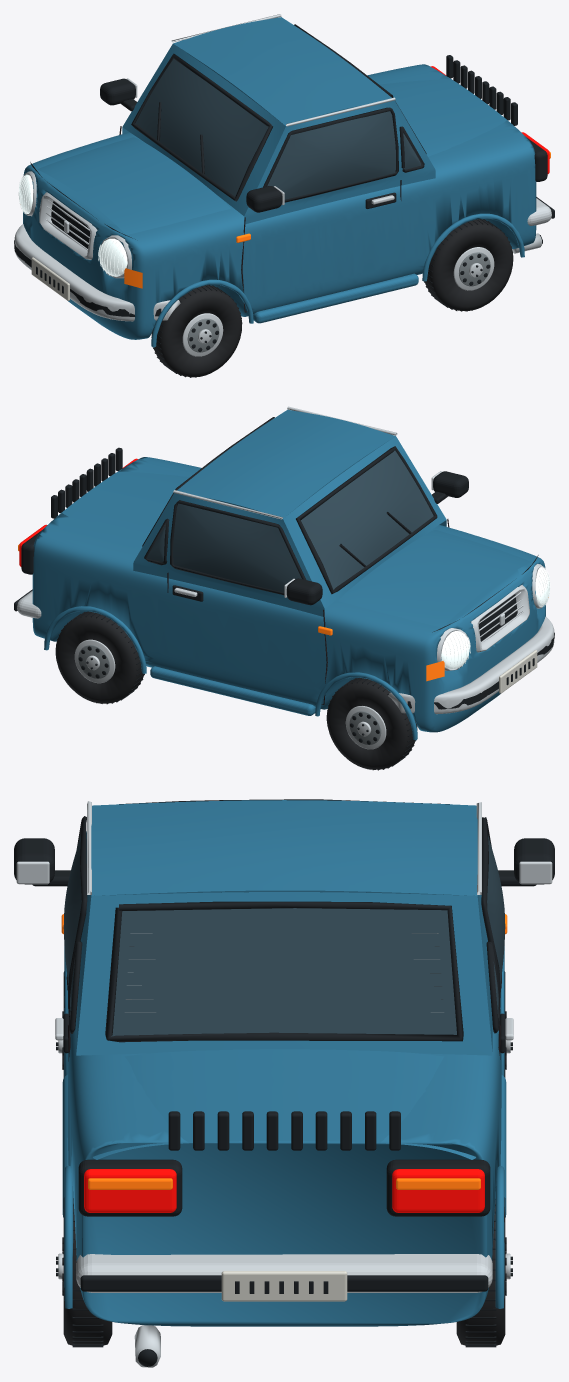
File: smz.glb
3 views of the same model, one above another, from view 1: azimuth 30°, elevation 25°; view 2: azimuth 150°, elevation 25°; view 3: azimuth 270°, elevation 25° (orthographic). The views are drawn at different scales.
Parts seen in each view (by area): view 1: Body_Paint_smz, Body_Curved smoked glass.009, Body_Black trim.009, Wheel_RR_Tyre.009, Wheel_FR_Tyre.009, Body_Machined aluminium.009, StockBumpers_Machined aluminium.009, StockSkirts_Paint_smz, StockFenders_Paint_smz, Body_Prismatic headlight glass.009, Wheel_RR_Machined aluminium.009, Wheel_FR_Machined aluminium.009 (+6 smaller); view 2: Body_Paint_smz, Body_Curved smoked glass.009, Body_Black trim.009, Wheel_RL_Tyre.009, Wheel_FL_Tyre.009, StockBumpers_Machined aluminium.009, Body_Machined aluminium.009, StockSkirts_Paint_smz, StockFenders_Paint_smz, Body_Prismatic headlight glass.009, Wheel_FL_Machined aluminium.009, Wheel_RL_Machined aluminium.009 (+6 smaller); view 3: Body_Paint_smz, Body_Curved smoked glass.009, Body_Black trim.009, StockBumpers_Machined aluminium.009, Body_Red lens.009, StockBumpers_Black trim.009, Body_Machined aluminium.009, Body_Numberplate.009, StockFenders_Paint_smz, Wheel_RR_Tyre.009, Body_Amber lens.009, Wheel_RL_Tyre.009 (+3 smaller).
Part boxes in pixels (x1,y1,x2,y2): Body_Paint_smz: [23, 17, 536, 339]; Body_Curved smoked glass.009: [135, 59, 421, 199]; Body_Black trim.009: [30, 24, 547, 293]; Wheel_RR_Tyre.009: [425, 219, 513, 311]; Wheel_FR_Tyre.009: [151, 285, 242, 377]; Body_Machined aluminium.009: [23, 14, 541, 278]; StockBumpers_Machined aluminium.009: [14, 198, 551, 321]; StockSkirts_Paint_smz: [253, 273, 418, 323]; StockFenders_Paint_smz: [151, 213, 524, 347]; Body_Prismatic headlight glass.009: [18, 174, 127, 276]; Wheel_RR_Machined aluminium.009: [453, 247, 494, 290]; Wheel_FR_Machined aluminium.009: [182, 313, 223, 356]; Body_Paint_smz: [32, 409, 545, 732]; Body_Curved smoked glass.009: [147, 450, 433, 592]; Body_Black trim.009: [21, 417, 538, 685]; Wheel_RL_Tyre.009: [55, 611, 143, 703]; Wheel_FL_Tyre.009: [326, 678, 417, 769]; StockBumpers_Machined aluminium.009: [17, 590, 554, 714]; Body_Machined aluminium.009: [173, 406, 545, 670]; StockSkirts_Paint_smz: [150, 666, 315, 715]; StockFenders_Paint_smz: [44, 606, 417, 740]; Body_Prismatic headlight glass.009: [441, 567, 550, 669]; Wheel_FL_Machined aluminium.009: [345, 706, 386, 749]; Wheel_RL_Machined aluminium.009: [74, 639, 115, 683]; Body_Paint_smz: [67, 800, 501, 1326]; Body_Curved smoked glass.009: [63, 835, 505, 1036]; Body_Black trim.009: [14, 799, 554, 1366]; StockBumpers_Machined aluminium.009: [76, 1254, 492, 1292]; Body_Red lens.009: [84, 1169, 484, 1212]; StockBumpers_Black trim.009: [80, 1275, 488, 1291]; Body_Machined aluminium.009: [16, 801, 552, 1367]; Body_Numberplate.009: [221, 1271, 347, 1301]; StockFenders_Paint_smz: [64, 946, 504, 1308]; Wheel_RR_Tyre.009: [63, 1197, 112, 1346]; Body_Amber lens.009: [61, 914, 507, 1189]; Wheel_RL_Tyre.009: [456, 1197, 505, 1346].
Size of the model in its own units: 2.83 by 1.38 by 1.72.
